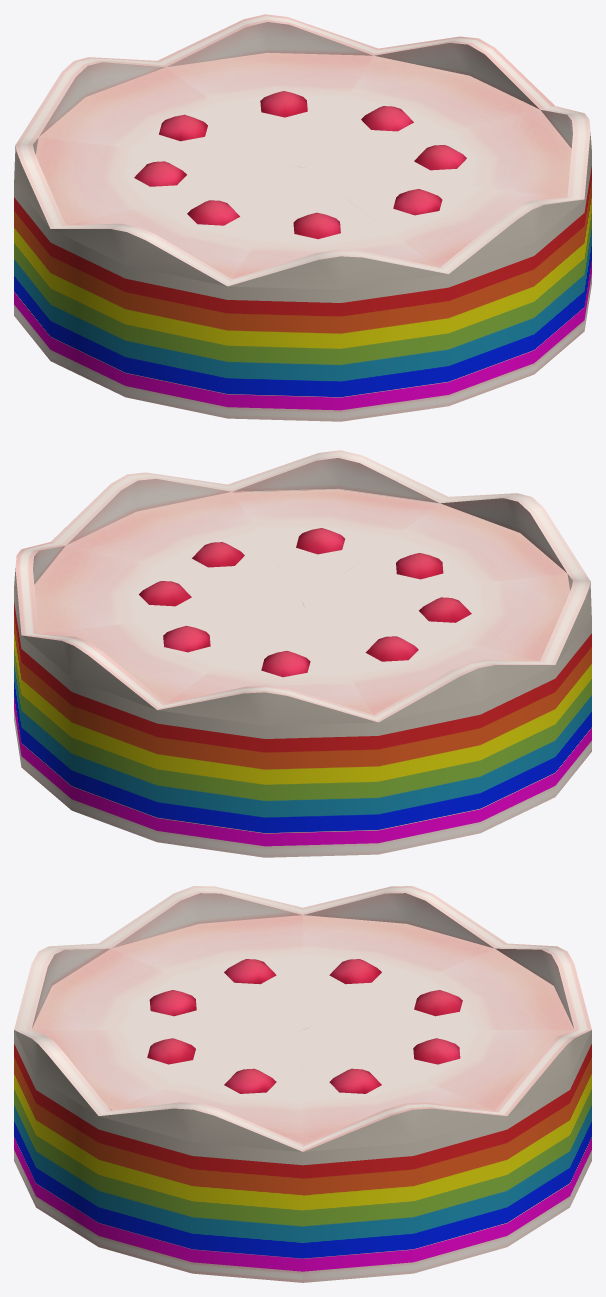
The model's file is rainbow_cake.fbx.
3 views of the same model, one above another, from view 1: azimuth 30°, elevation 25°; view 2: azimuth 150°, elevation 25°; view 3: azimuth 270°, elevation 25° (orthographic).
Visible parts, largest first — view 1: rainbow_cake; view 2: rainbow_cake; view 3: rainbow_cake.
Boxes of the visible parts, x1,y1,x2,y2 form: rainbow_cake: (14,14,591,421); rainbow_cake: (14,450,591,857); rainbow_cake: (14,886,591,1282).
Size of the model in its own units: 60 by 18.66 by 60.
